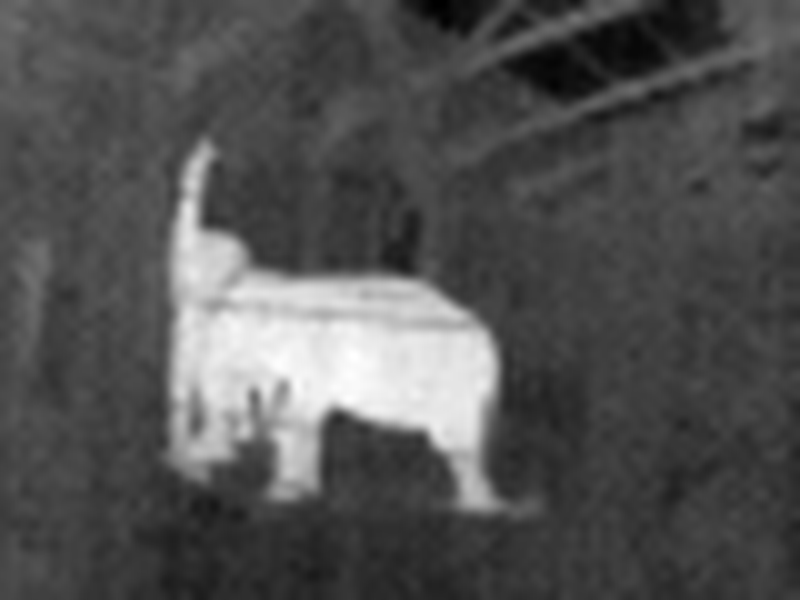elephant: (140, 145, 536, 518)
